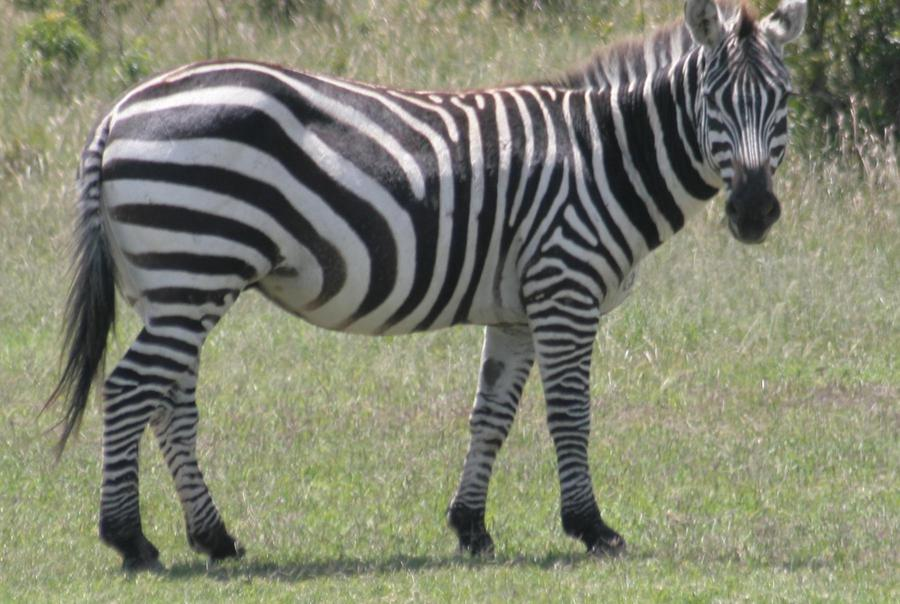zebra_plains: (94, 39, 642, 345)
